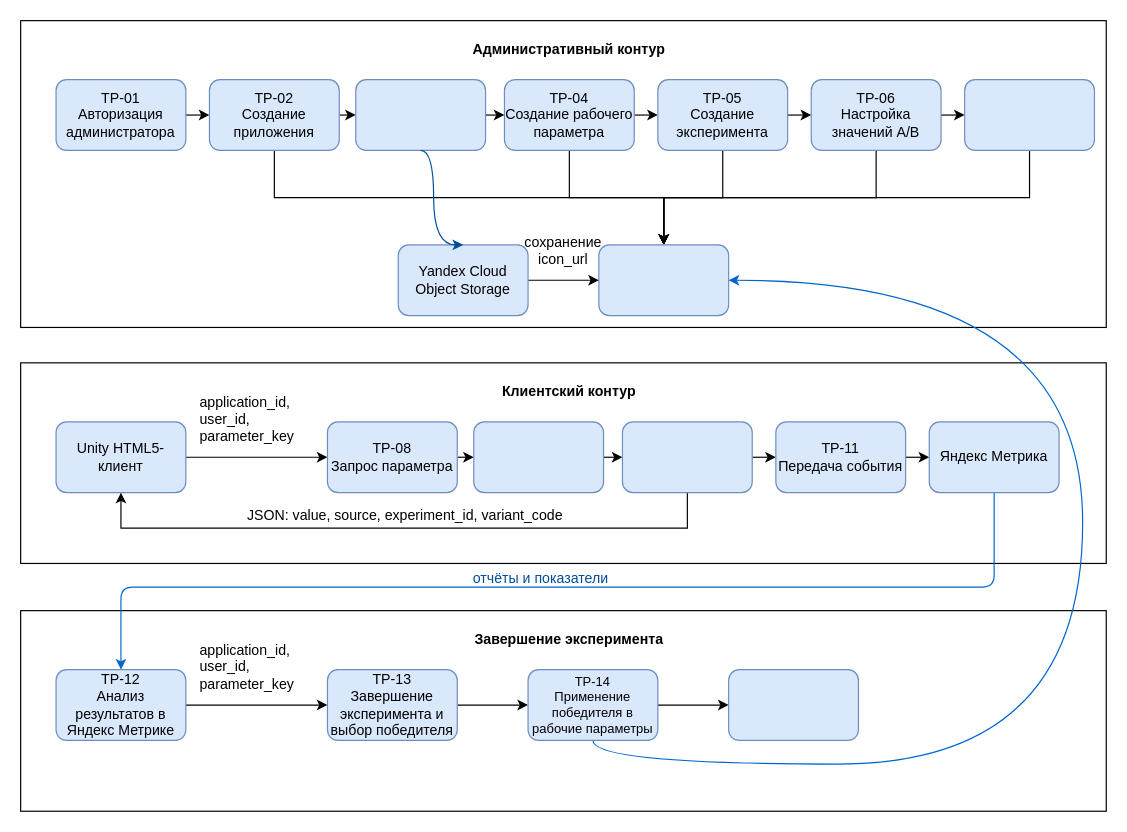
The diagram is 1127 pixels wide and 832 high, and some of its shapes have lost their labels. Here are the shapes that lost their labels. From the top down, the box of each, then its label:
(355, 78, 486, 150): TP-03 Загрузка иконки приложения
(963, 78, 1094, 150): TP-07 Запуск эксперимента
(598, 244, 729, 316): БД PostgreSQL
(473, 421, 604, 493): TP-09 Назначение варианта A/B
(621, 421, 752, 493): TP-10 Выдача значения параметра
(727, 668, 858, 740): Завершённый эксперимент сохранён в истории
